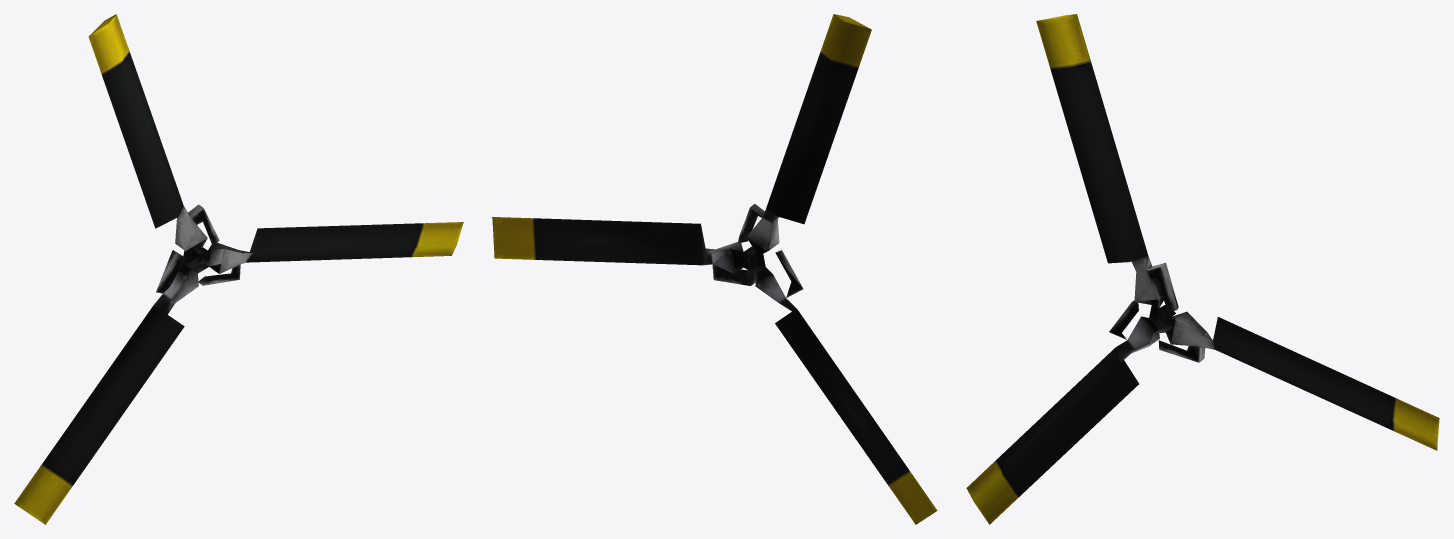
The model's file is backBlade2.obj.
The picture shows the model from 3 angles, left to right: view 1: azimuth 30°, elevation 25°; view 2: azimuth 150°, elevation 25°; view 3: azimuth 330°, elevation 25°; orthographic projection. The views are drawn at different scales.
Visible parts, largest first — view 1: Null_glass.005_Body; view 2: Null_glass.005_Body; view 3: Null_glass.005_Body.
Part boxes in pixels (box(x1,y1,x2,y2)): Null_glass.005_Body: box(14, 14, 463, 524); Null_glass.005_Body: box(492, 14, 937, 524); Null_glass.005_Body: box(966, 14, 1439, 524).
Size of the model in its own units: 1.38 by 1.45 by 0.0838.
Materials: 1 (1 with a texture image).
